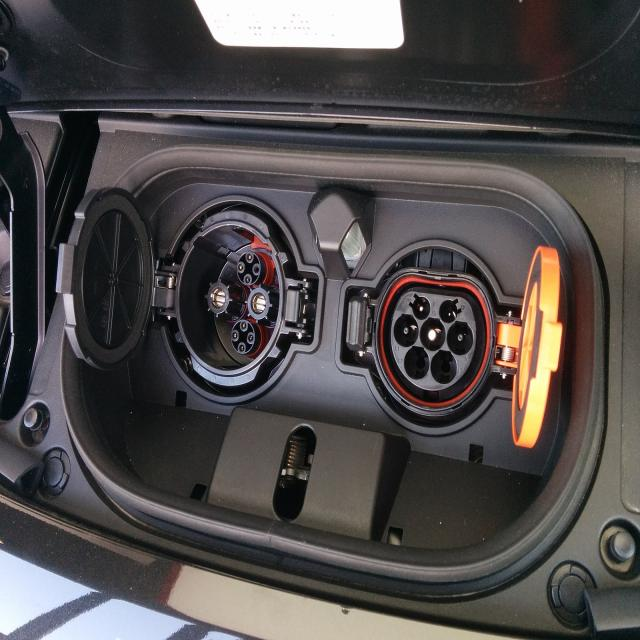CHAdeMO: (169, 204, 296, 390)
